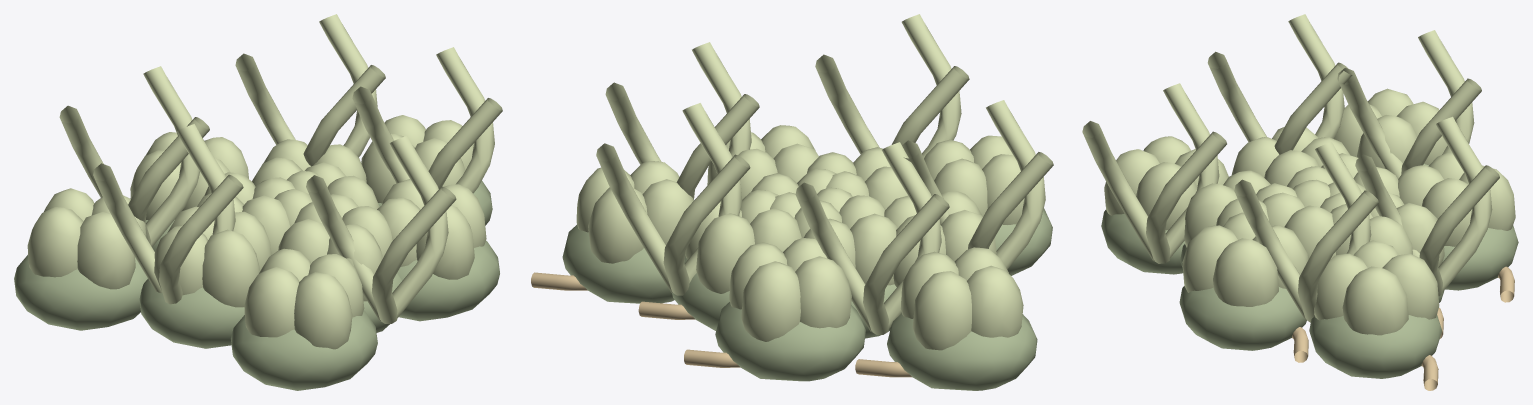
File: bio_oxygen_reef_04_far.glb
3 renders of one model, left to right at view 1: azimuth 30°, elevation 25°; view 2: azimuth 150°, elevation 25°; view 3: azimuth 270°, elevation 25°, orthographic. The views are drawn at different scales.
Parts seen in each view (by area): view 1: Lobed gas sac.028, Spiral filament.006, Lobed gas sac.036, Spiral filament.012, Photosynthetic cushion.007, Spiral filament.003, Lobed gas sac.016, Spiral filament, Spiral filament.009, Photosynthetic cushion.009, Lobed gas sac.020, Photosynthetic cushion.004 (+8 smaller); view 2: Lobed gas sac.036, Lobed gas sac.024, Spiral filament.009, Spiral filament.003, Photosynthetic cushion.006, Photosynthetic cushion.009, Lobed gas sac.032, Spiral filament.006, Spiral filament.012, Lobed gas sac.012, Spiral filament, Lobed gas sac.028 (+12 smaller); view 3: Lobed gas sac.032, Spiral filament.006, Lobed gas sac.020, Spiral filament.009, Spiral filament, Spiral filament.012, Photosynthetic cushion.008, Spiral filament.003, Photosynthetic cushion.005, Lobed gas sac.024, Lobed gas sac.036, Lobed gas sac.028 (+10 smaller).
Part boxes in pixels (bbox=[...]): Lobed gas sac.028: bbox=[244, 248, 364, 349]; Spiral filament.006: bbox=[306, 135, 456, 323]; Lobed gas sac.036: bbox=[27, 188, 146, 289]; Spiral filament.012: bbox=[93, 124, 243, 304]; Photosynthetic cushion.007: bbox=[231, 310, 377, 390]; Spiral filament.003: bbox=[59, 66, 209, 246]; Lobed gas sac.016: bbox=[154, 206, 271, 307]; Spiral filament: bbox=[352, 47, 502, 193]; Spiral filament.009: bbox=[235, 14, 385, 166]; Photosynthetic cushion.009: bbox=[14, 255, 147, 330]; Lobed gas sac.020: bbox=[377, 179, 486, 279]; Photosynthetic cushion.004: bbox=[139, 279, 244, 348]; Lobed gas sac.036: bbox=[900, 247, 1023, 350]; Lobed gas sac.024: bbox=[729, 238, 851, 341]; Spiral filament.009: bbox=[596, 103, 750, 295]; Spiral filament.003: bbox=[795, 142, 949, 334]; Photosynthetic cushion.006: bbox=[715, 302, 865, 381]; Photosynthetic cushion.009: bbox=[887, 313, 1037, 390]; Lobed gas sac.032: bbox=[576, 161, 693, 263]; Spiral filament.006: bbox=[815, 14, 969, 158]; Spiral filament.012: bbox=[902, 100, 1053, 269]; Lobed gas sac.012: bbox=[685, 190, 801, 293]; Spiral filament: bbox=[605, 42, 759, 199]; Lobed gas sac.028: bbox=[924, 135, 1024, 224]; Lobed gas sac.032: bbox=[1314, 240, 1439, 335]; Spiral filament.006: bbox=[1082, 83, 1226, 263]; Lobed gas sac.020: bbox=[1182, 212, 1307, 306]; Spiral filament.009: bbox=[1355, 116, 1499, 296]; Spiral filament: bbox=[1234, 142, 1378, 322]; Spiral filament.012: bbox=[1207, 14, 1352, 154]; Photosynthetic cushion.008: bbox=[1309, 315, 1441, 378]; Spiral filament.003: bbox=[1337, 30, 1481, 178]; Photosynthetic cushion.005: bbox=[1179, 286, 1306, 350]; Lobed gas sac.024: bbox=[1398, 152, 1515, 246]; Lobed gas sac.036: bbox=[1334, 88, 1447, 168]; Lobed gas sac.028: bbox=[1104, 136, 1228, 230].
Bounding box in the file's own units: 1.85 × 0.7508 × 1.57.
